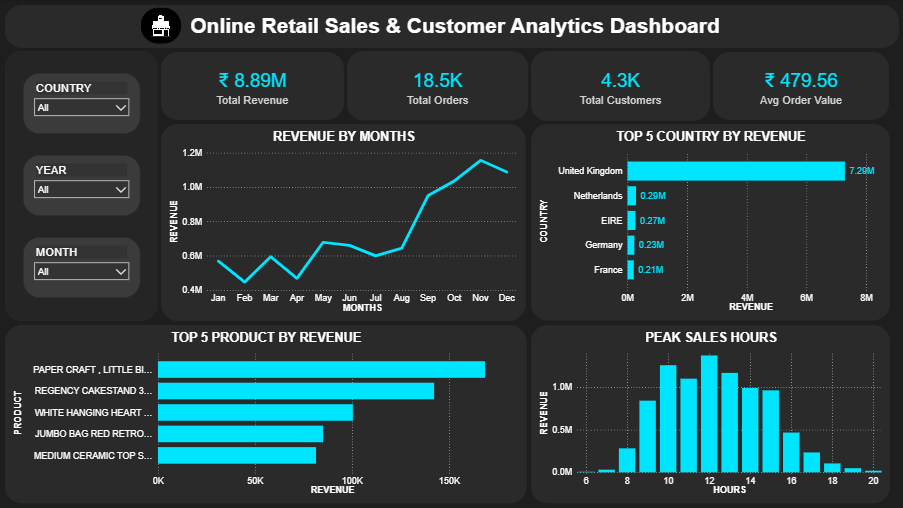

This screenshot's page, from the dashboard's own definition file:
{"tool":"powerbi","page":{"name":"Page 1","canvas":[1600,900],"ordinal":0},"visuals":[{"type":"textbox","box":[8,8,1584,76],"z":0},{"type":"textbox","box":[8.2,89.9,270.3,477.8],"z":1000},{"type":"card","fields":{"Values":["retail_clean.Total Revenue"]},"box":[286,92,324,120],"z":2000},{"type":"card","fields":{"Values":["retail_clean.Total Orders"]},"box":[614.4,90.4,321.3,122.9],"z":3000},{"type":"card","fields":{"Values":["retail_clean.Total Customers"]},"box":[940.4,90.4,317.3,124],"z":4000},{"type":"card","fields":{"Values":["retail_clean.Avg Order Value"]},"box":[1264,92,312,120],"z":5000},{"type":"lineChart","title":"REVENUE BY MONTHS","fields":{"Y":["Sum(retail_clean.Revenue)"],"Category":["retail_clean.MonthName"]},"box":[285.7,219.1,646.1,349.1],"z":6000},{"type":"barChart","title":"TOP 5 COUNTRY BY REVENUE","fields":{"Category":["retail_clean.Country"],"Y":["Sum(retail_clean.Revenue)"]},"box":[940,220,636,348],"z":7000},{"type":"barChart","title":"TOP 5 PRODUCT BY REVENUE","fields":{"Y":["Sum(retail_clean.Revenue)"],"Category":["retail_clean.Description"]},"box":[8,576,924,316],"z":8000},{"type":"clusteredColumnChart","title":"PEAK SALES HOURS","fields":{"Category":["retail_clean.Hour"],"Y":["Sum(retail_clean.Revenue)"]},"box":[940,576,636,316],"z":9000},{"type":"slicer","fields":{"Values":["retail_clean.Country"]},"box":[40,130,208,108],"z":10000},{"type":"slicer","fields":{"Values":["retail_clean.Year"]},"box":[40,274,208,108],"z":11000},{"type":"slicer","fields":{"Values":["retail_clean.MonthName"]},"box":[40,420,208,108],"z":12000},{"type":"image","box":[248,12.4,74.4,65.6],"z":13000}]}

Visuals, with their boxes in screenshot pixels (x1, y1, x2, y2), scaled from the page's 1600x900 canvas onto the 903x508 screenshot:
textbox: (5,5,898,47)
textbox: (5,51,157,320)
card - retail_clean.Total Revenue: (161,52,344,120)
card - retail_clean.Total Orders: (347,51,528,120)
card - retail_clean.Total Customers: (531,51,710,121)
card - retail_clean.Avg Order Value: (713,52,889,120)
"REVENUE BY MONTHS" lineChart: (161,124,526,321)
"TOP 5 COUNTRY BY REVENUE" barChart: (531,124,889,321)
"TOP 5 PRODUCT BY REVENUE" barChart: (5,325,526,503)
"PEAK SALES HOURS" clusteredColumnChart: (531,325,889,503)
slicer - retail_clean.Country: (23,73,140,134)
slicer - retail_clean.Year: (23,155,140,216)
slicer - retail_clean.MonthName: (23,237,140,298)
image: (140,7,182,44)
